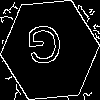G: (25, 25, 64, 74)
